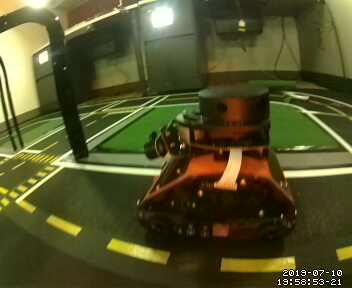pheeno: (134, 84, 302, 239)
